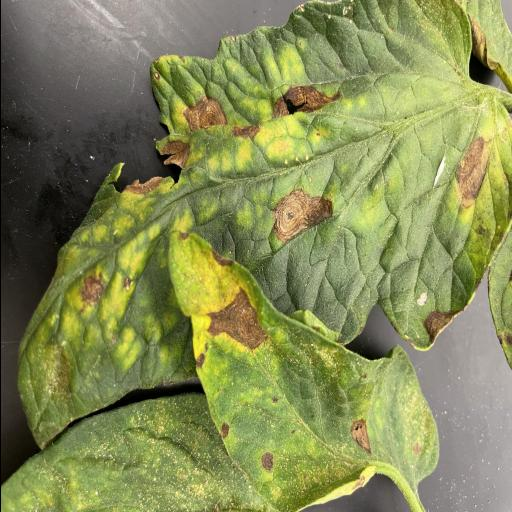Early Blight: (17, 0, 512, 455), (164, 228, 444, 512)
